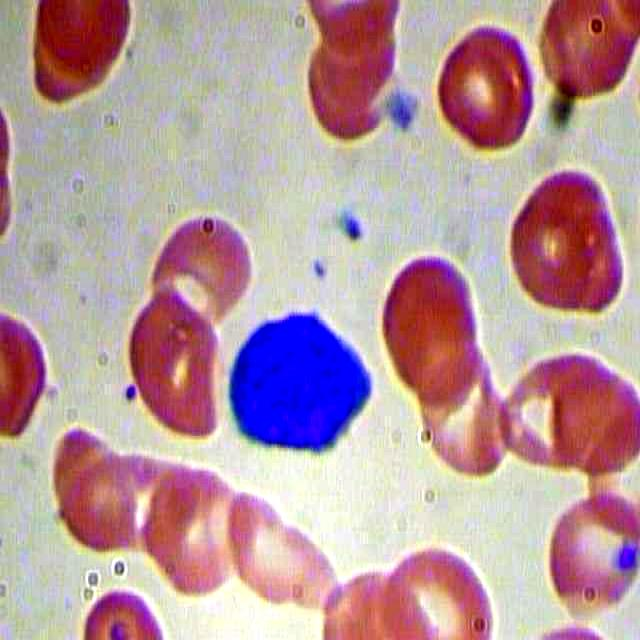Platelets: (385, 88, 418, 129), (336, 208, 368, 245)
RBC: (115, 285, 226, 443), (410, 325, 521, 483), (225, 482, 343, 614), (144, 200, 255, 332), (433, 16, 534, 161), (539, 479, 640, 624), (291, 29, 408, 150), (137, 451, 232, 597), (508, 170, 601, 318), (384, 534, 502, 640), (381, 255, 475, 382), (545, 351, 640, 476), (52, 440, 147, 565), (536, 1, 640, 103), (27, 1, 140, 90)
WBC: (224, 305, 384, 460)
